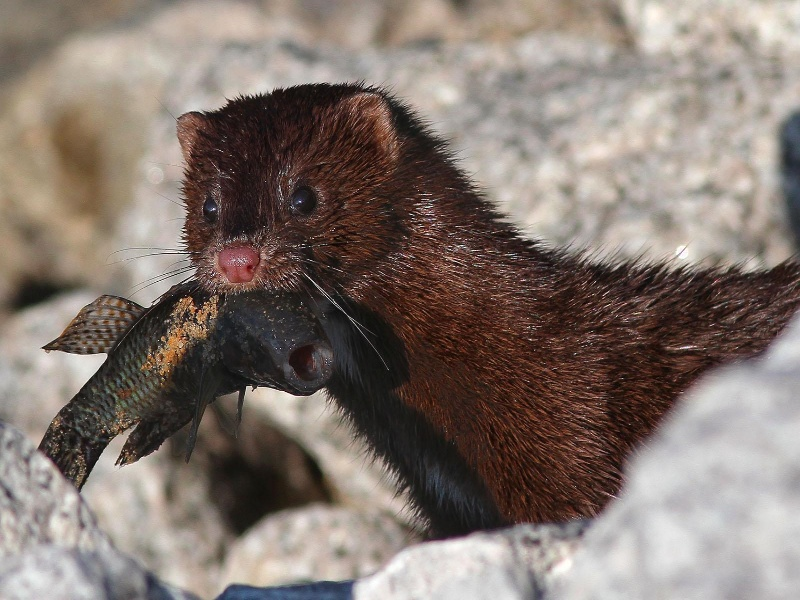minkish: (173, 78, 783, 566)
